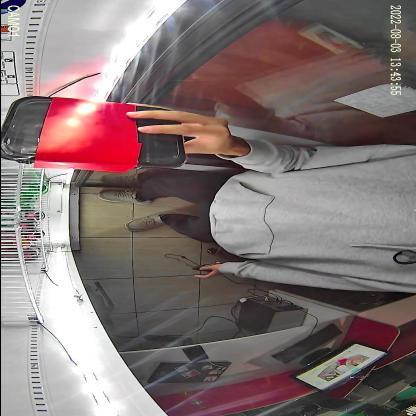red: (0, 95, 187, 173)
